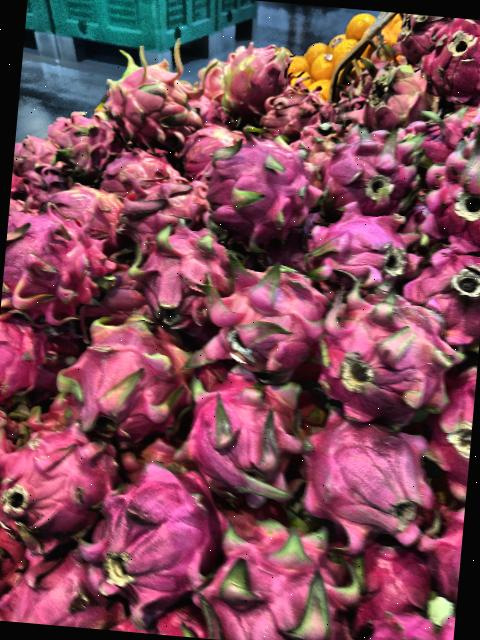buah-naga-belum-matang: (92, 44, 204, 152), (207, 34, 308, 120), (93, 143, 189, 209), (353, 57, 435, 132), (47, 172, 136, 238), (256, 79, 340, 131), (171, 118, 248, 169), (286, 114, 354, 161)
buah-naga-matang: (304, 268, 470, 444), (289, 411, 452, 574), (180, 500, 361, 640), (45, 304, 202, 448), (180, 240, 332, 384), (91, 454, 220, 610), (172, 366, 314, 502), (192, 134, 326, 256), (0, 413, 118, 550), (104, 222, 240, 328), (0, 199, 101, 339), (296, 200, 428, 297), (308, 122, 419, 220), (410, 135, 480, 248), (414, 15, 480, 107)
